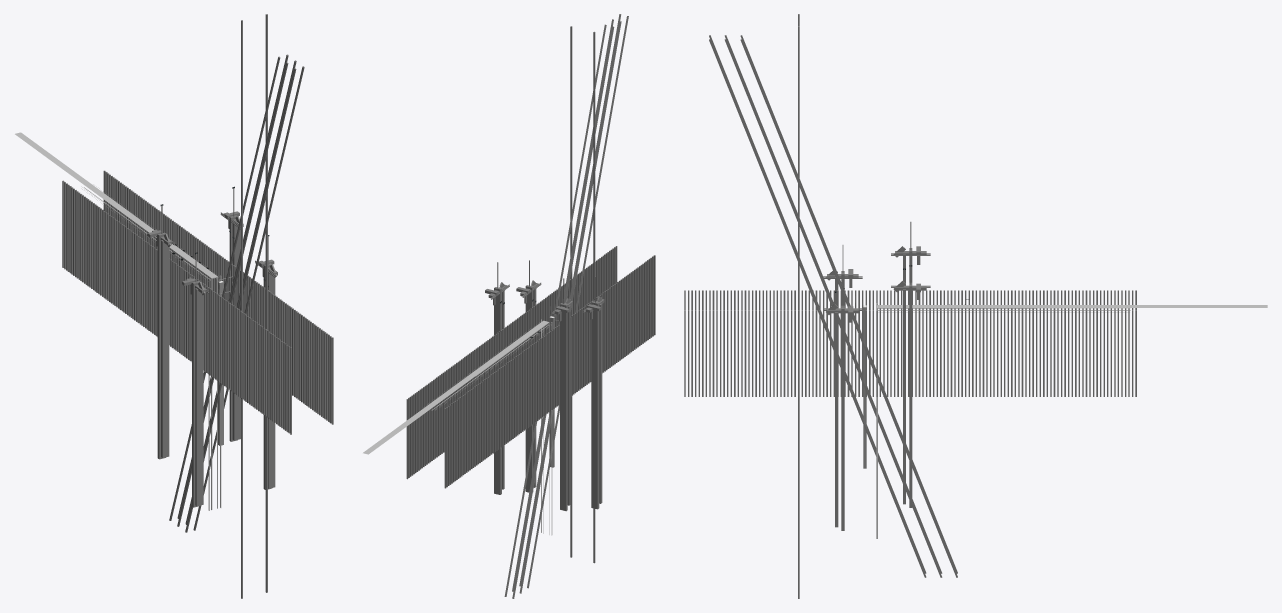
The model's file is tutorial.glb.
3 renders of one model, left to right at view 1: azimuth 30°, elevation 25°; view 2: azimuth 150°, elevation 25°; view 3: azimuth 270°, elevation 25°, orthographic. The views are drawn at different scales.
Parts seen in each view (by area): view 1: CombinedMesh (×5), Spectrogram0 (×2), Spectrogram1 (×2), TrackMirror, Construction; view 2: CombinedMesh (×5), Spectrogram1 (×2), Spectrogram0 (×2), TrackMirror, Construction; view 3: Spectrogram1 (×2), Spectrogram0 (×2), CombinedMesh (×3), TrackMirror, Construction.
Part boxes in pixels (<box>): CombinedMesh (×5): <box>147,14,304,598</box>; Spectrogram0 (×2): <box>177,254,333,434</box>; Spectrogram1 (×2): <box>62,170,218,350</box>; TrackMirror: <box>15,132,217,278</box>; Construction: <box>82,187,221,510</box>; CombinedMesh (×5): <box>485,14,628,598</box>; Spectrogram1 (×2): <box>406,323,549,488</box>; Spectrogram0 (×2): <box>512,246,655,411</box>; TrackMirror: <box>363,320,548,454</box>; Construction: <box>427,319,552,535</box>; Spectrogram1 (×2): <box>912,290,1136,396</box>; Spectrogram0 (×2): <box>684,290,909,396</box>; CombinedMesh (×3): <box>709,14,957,598</box>; TrackMirror: <box>877,305,1267,307</box>; Construction: <box>876,303,1130,538</box>.
Size of the model in its own units: 65 by 400 by 369.
13 materials, 3 textured.
